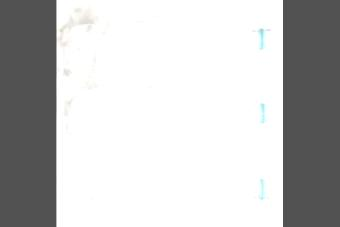bottle: (63, 8, 276, 84), (70, 149, 274, 223), (68, 83, 274, 149)
